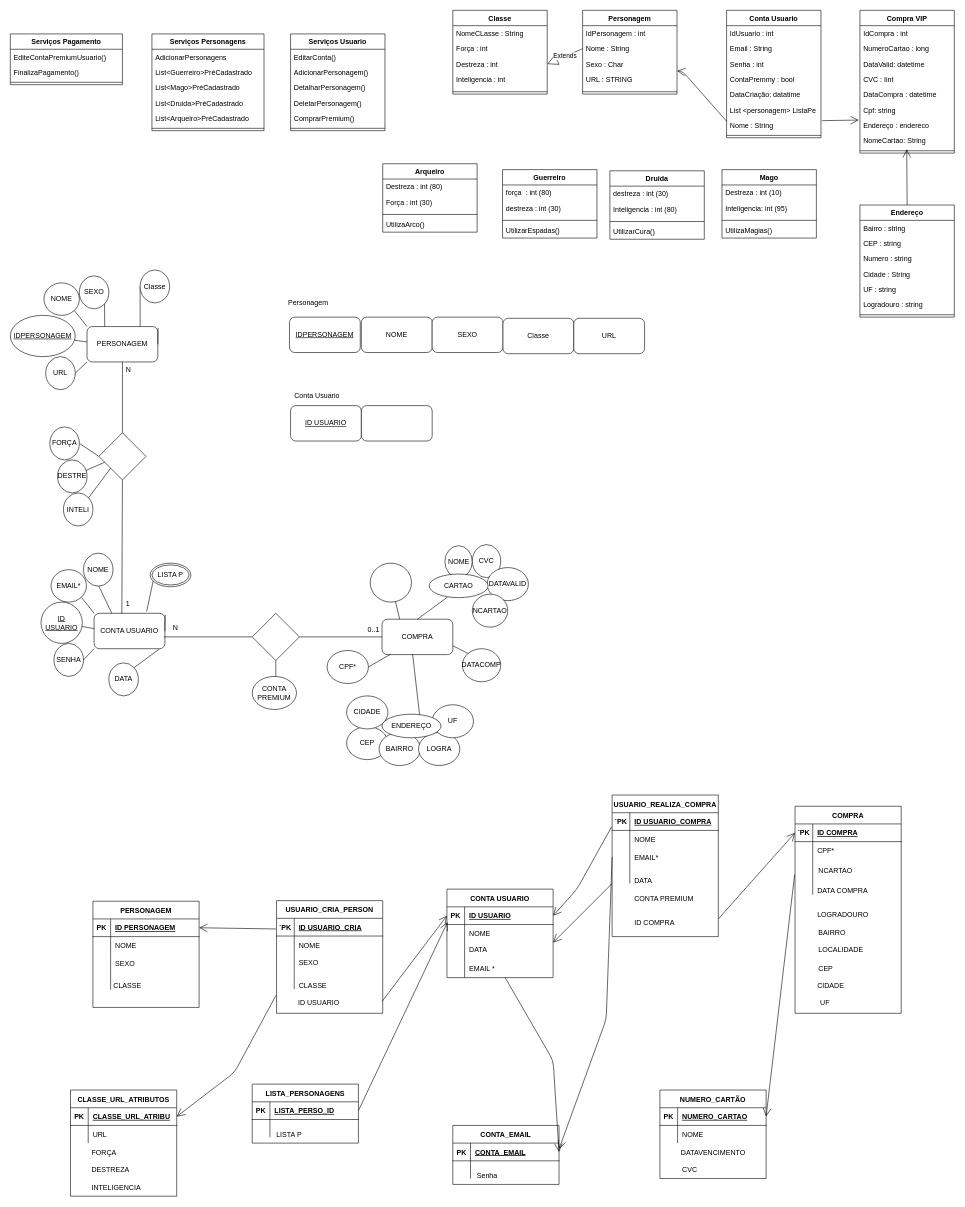
Image size: 965x1207. Some labels were removed from this diagram. The centre of each missing label's shape, as x and y in pixels:
"Cria" goes at pixel 122 456.
"IDCOMPRA" goes at pixel 391 582.
"REALIZA" goes at pixel 275 637.
